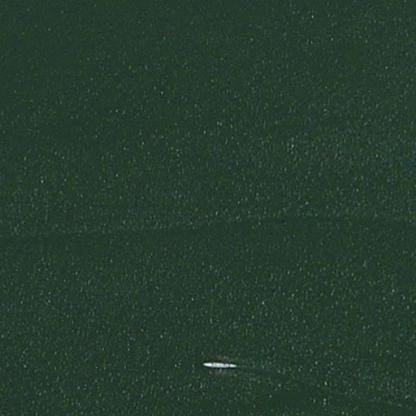ship: (199, 358, 239, 371)
